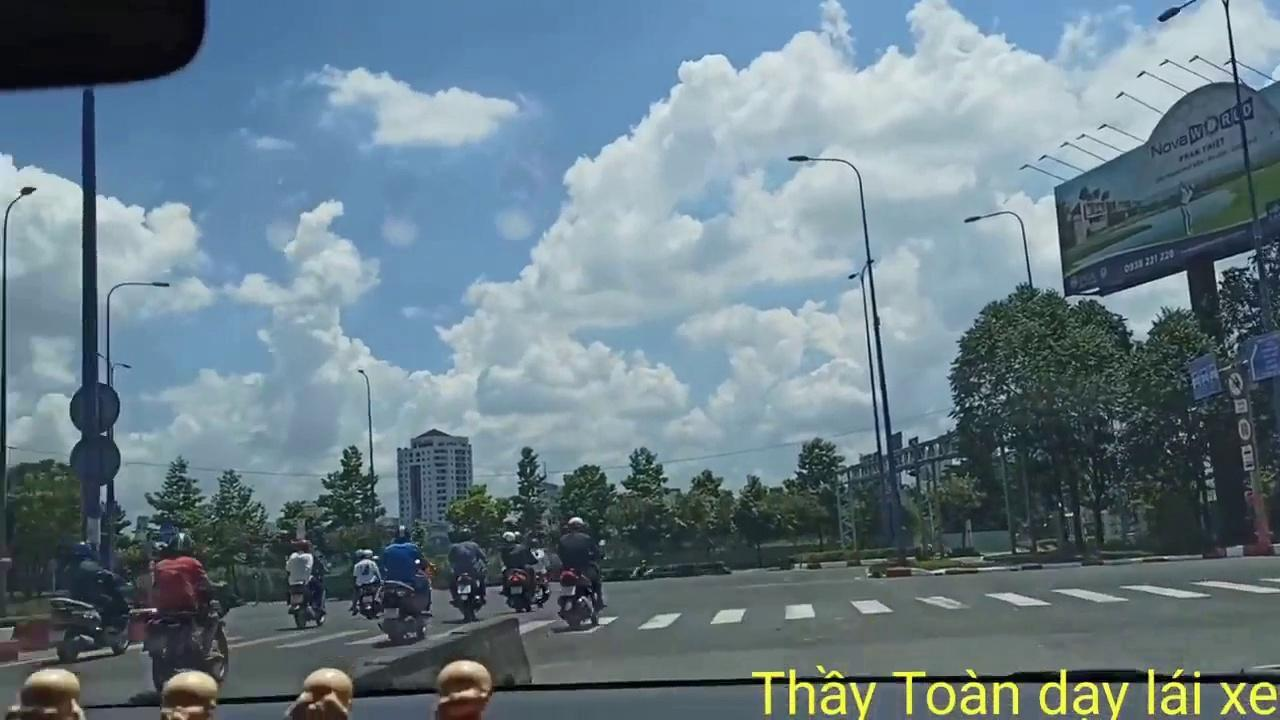Biển phụ: (1240, 443, 1256, 472)
Chỉ hướng đường: (1242, 331, 1280, 379)
Cấm xe máy: (1227, 371, 1244, 398)
Làn đường cho từng xe: (1188, 351, 1224, 401)
